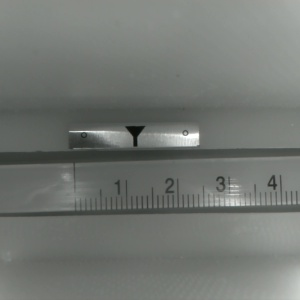1: (114, 179, 120, 195)
2: (164, 177, 174, 193)
3: (214, 177, 224, 192)
4: (267, 175, 277, 190)
finger: (124, 126, 145, 147)
